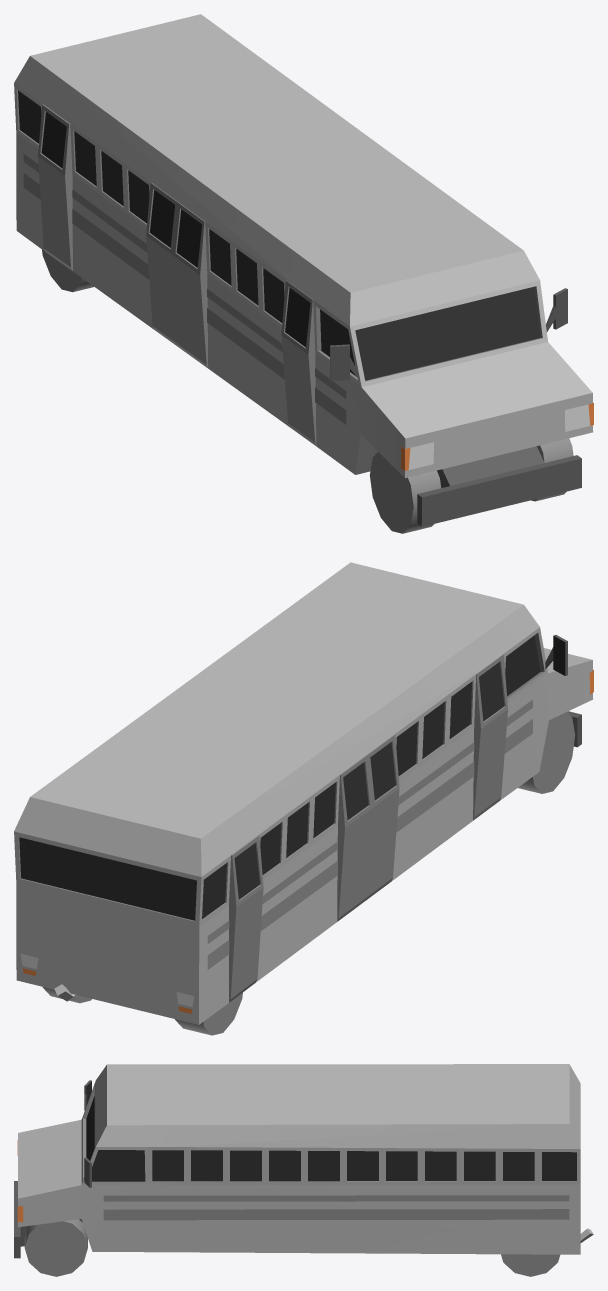
File: bus_08.fbx
3 renders of one model, top to bottom at view 1: azimuth 30°, elevation 25°; view 2: azimuth 150°, elevation 25°; view 3: azimuth 270°, elevation 25°, orthographic. The views are drawn at different scales.
Parts seen in each view (by area): view 1: bus_08; view 2: bus_08; view 3: bus_08.
Part boxes in pixels (x1,y1,x2,y2): bus_08: (14, 14, 593, 533); bus_08: (14, 562, 593, 1035); bus_08: (14, 1064, 593, 1276).
Size of the model in its own units: 2.77 by 2.39 by 8.14.
